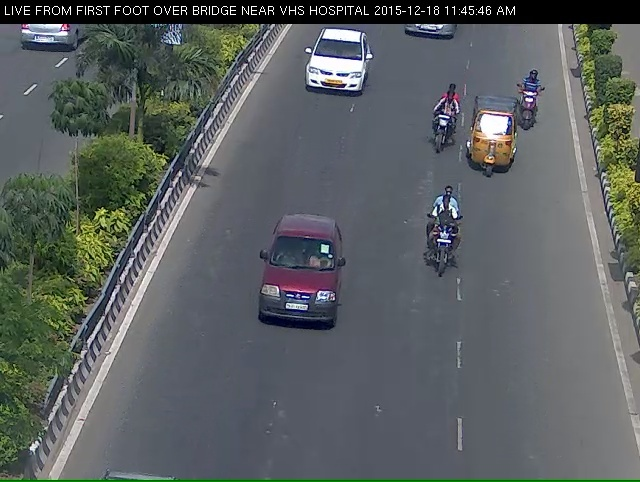Car: (256, 218, 346, 364), (299, 35, 372, 116), (463, 99, 522, 189)
Person: (418, 201, 468, 308), (421, 92, 454, 173), (521, 79, 546, 144)
